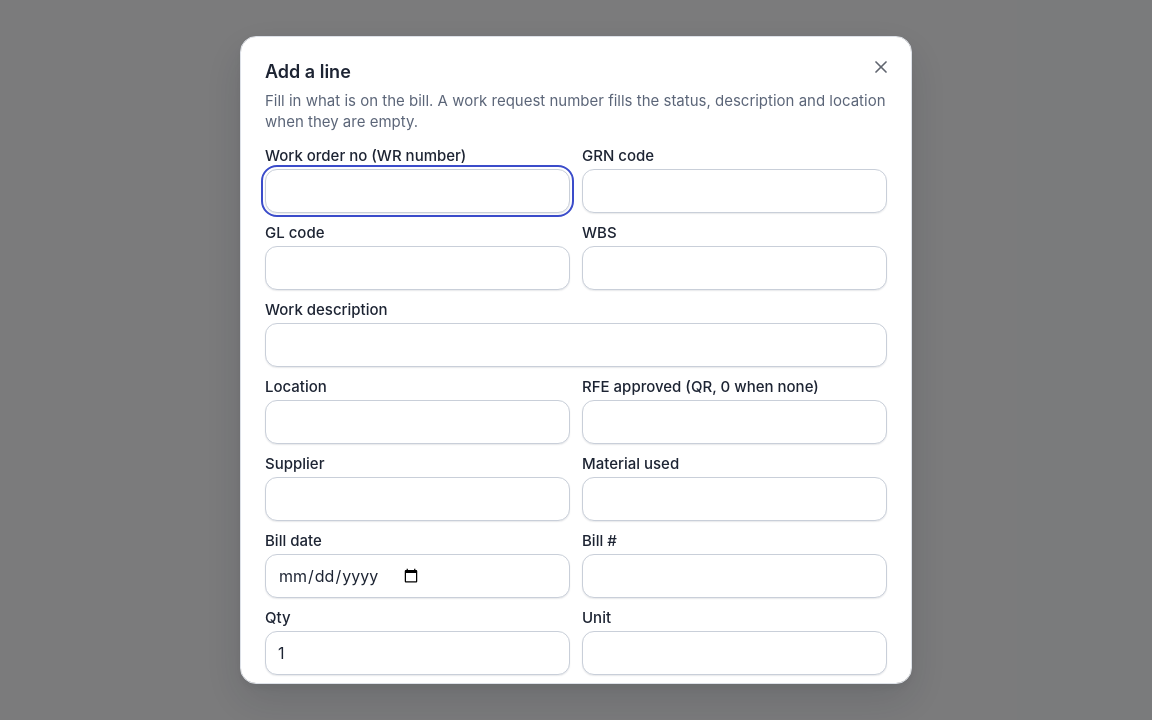
it: petty cash claim screen › line dialog shows the live total
This screenshot has width=1152, height=720.
Replace the text in the number field labelled "Qty" with "3": (418, 653) x1=265 y1=631 x2=570 y2=675
(page scrolled)
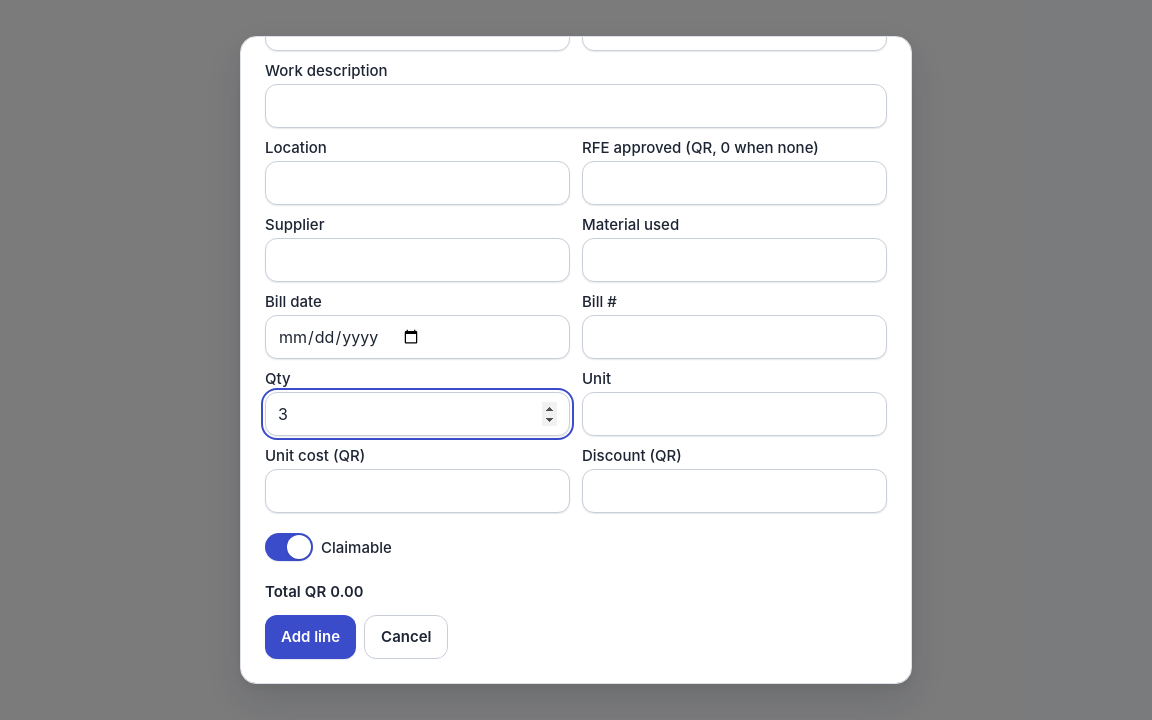
In the number field labelled "Unit cost (QR)": (418, 491) x1=265 y1=469 x2=570 y2=513, type "10.1"
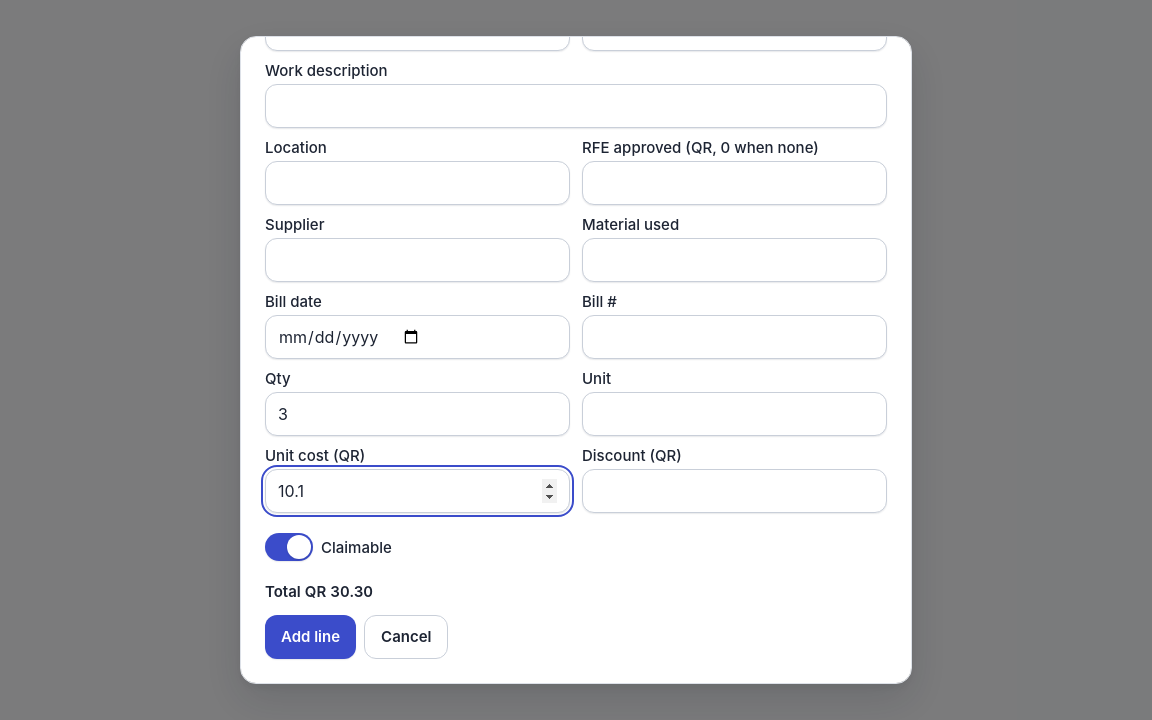
In the number field labelled "Discount (QR)": (734, 491) x1=582 y1=469 x2=887 y2=513, type "0.5"
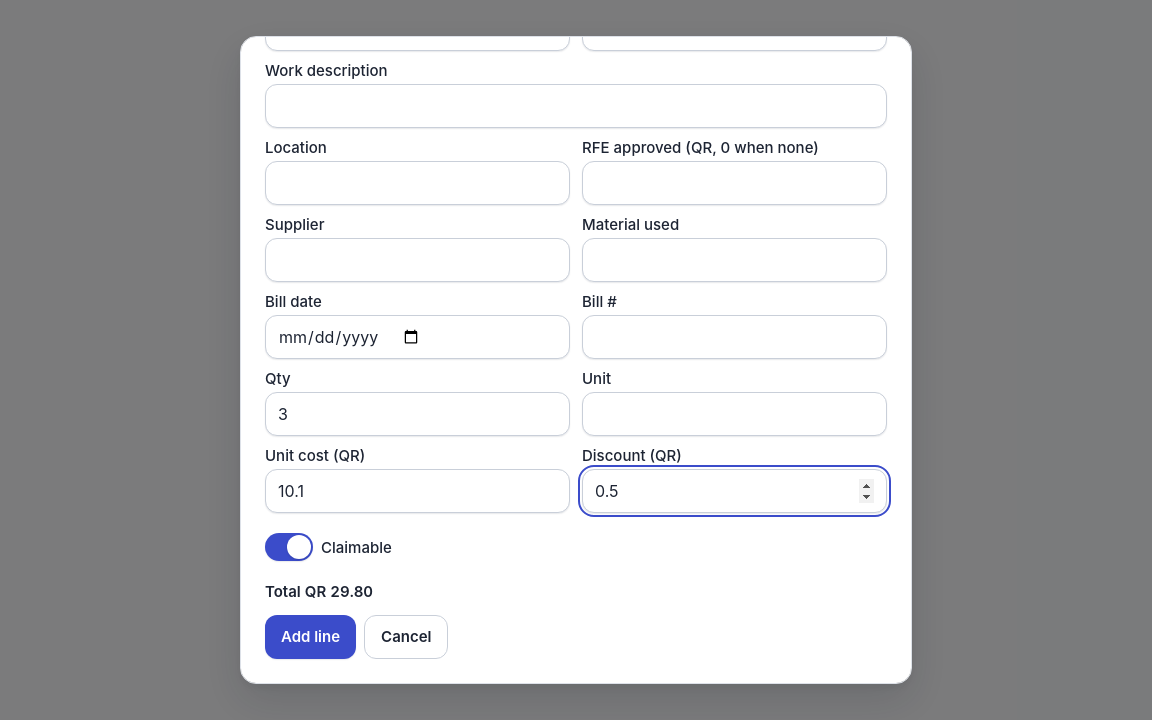
Expected: the text with test id "line-total" shows "QR 29.80", x1=305 y1=582 x2=373 y2=601
